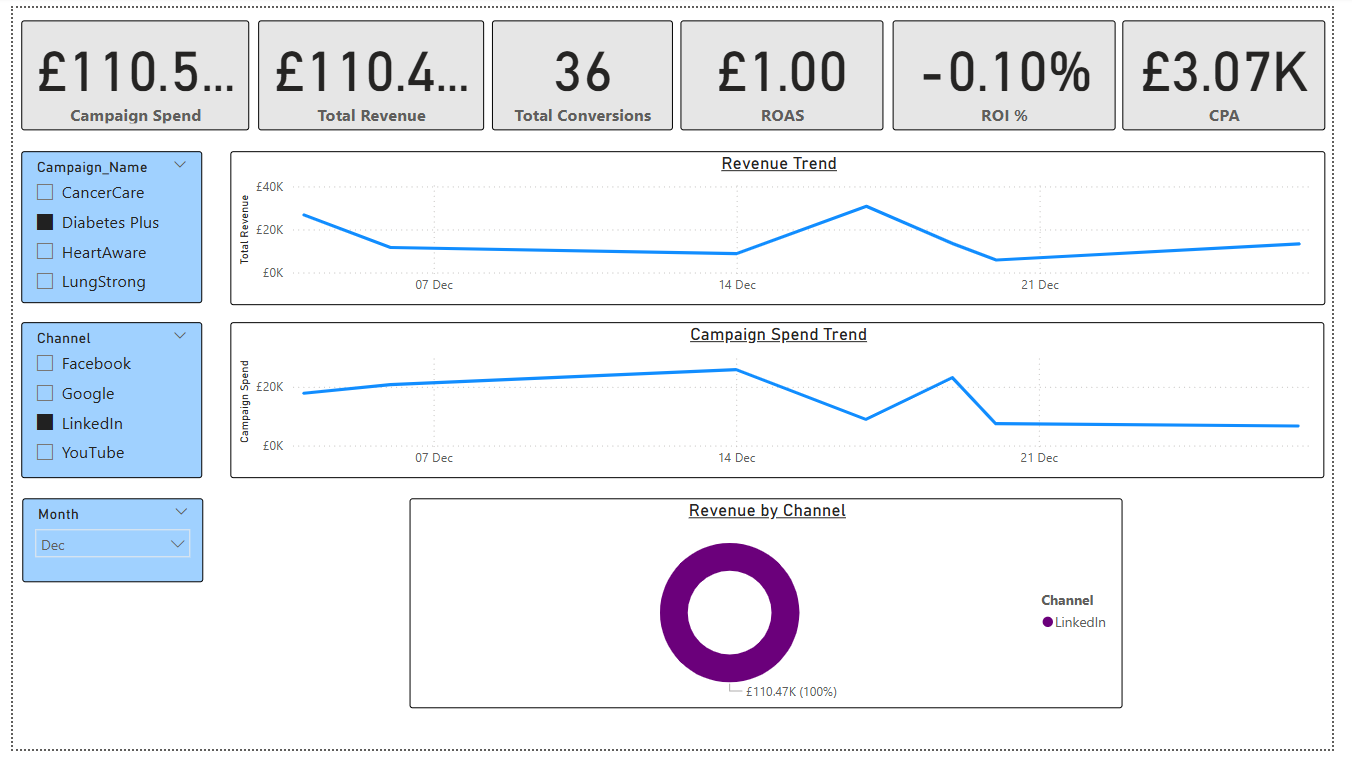

What the dashboard file says about the page in this screenshot:
{"tool":"powerbi","page":{"name":"Executive Overview","canvas":[1280,720],"ordinal":0},"visuals":[{"type":"card","fields":{"Values":["Measure.Campaign Spend"]},"box":[8.1,11.6,221.2,107.5],"z":0},{"type":"card","fields":{"Values":["Measure.Total Revenue"]},"box":[238.2,11.6,218.5,107.5],"z":1000},{"type":"card","fields":{"Values":["Measure.ROAS"]},"box":[648.4,11.6,196.1,107.5],"z":2000},{"type":"card","fields":{"Values":["Measure.CPA"]},"box":[1077.4,11.6,196.1,107.5],"z":3000},{"type":"card","fields":{"Values":["Measure.Total Conversions"]},"box":[464.8,11.6,175.5,107.5],"z":4000},{"type":"slicer","fields":{"Values":["clean_campaign.Campaign_Name"]},"box":[8.1,138.8,174.6,147.8],"z":5000},{"type":"slicer","fields":{"Values":["clean_campaign.Channel"]},"box":[7,296,175,152],"z":6000},{"type":"slicer","fields":{"Values":["DateTable.Month"]},"box":[8,626,175,82],"z":7000},{"type":"card","fields":{"Values":["Measure.ROI %"]},"box":[853.5,11.6,216.7,107.5],"z":8000},{"type":"lineChart","title":"Revenue Trend","fields":{"Category":["DateTable.Date"],"Y":["Measure.Total Revenue"]},"box":[211.4,138.8,1062.2,150.5],"z":9000},{"type":"lineChart","title":"Campaign Spend Trend","fields":{"Category":["DateTable.Date"],"Y":["Measure.Campaign Spend"]},"box":[211,305,1062,152],"z":10000},{"type":"donutChart","title":"Revenue by Channel","fields":{"Category":["clean_campaign.Channel"],"Y":["Measure.Total Revenue"]},"box":[385.1,476.5,692.3,203.3],"z":11000},{"type":"slicer","fields":{"Values":["clean_audience(in).Condition"]},"box":[8,457,173,159],"z":11001}]}

Visuals, with their boxes in screenshot pixels (x1, y1, x2, y2), scaled from the page's 1280x720 canvas onto the 1352x763 screenshot:
card - Measure.Campaign Spend: region(9, 12, 242, 126)
card - Measure.Total Revenue: region(252, 12, 482, 126)
card - Measure.ROAS: region(685, 12, 892, 126)
card - Measure.CPA: region(1138, 12, 1345, 126)
card - Measure.Total Conversions: region(491, 12, 676, 126)
slicer - clean_campaign.Campaign_Name: region(9, 147, 193, 304)
slicer - clean_campaign.Channel: region(7, 314, 192, 475)
slicer - DateTable.Month: region(8, 663, 193, 750)
card - Measure.ROI %: region(902, 12, 1130, 126)
"Revenue Trend" lineChart: region(223, 147, 1345, 307)
"Campaign Spend Trend" lineChart: region(223, 323, 1345, 484)
"Revenue by Channel" donutChart: region(407, 505, 1138, 720)
slicer - clean_audience(in).Condition: region(8, 484, 191, 653)
